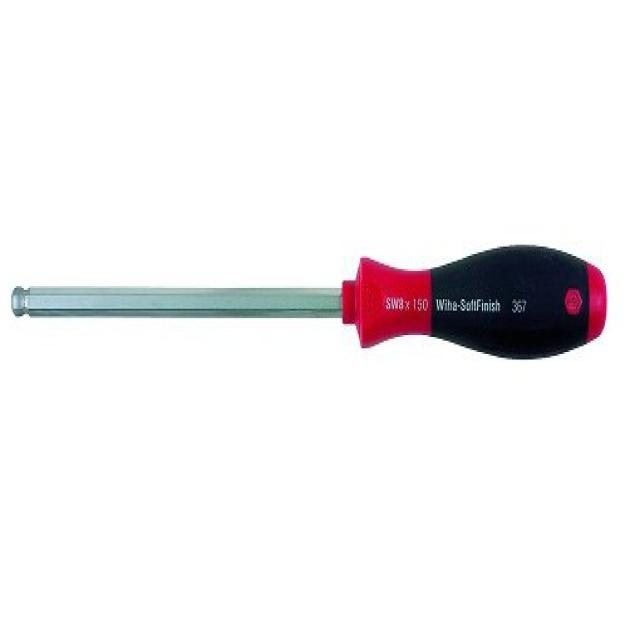Screwdriver: (11, 246, 606, 358)
